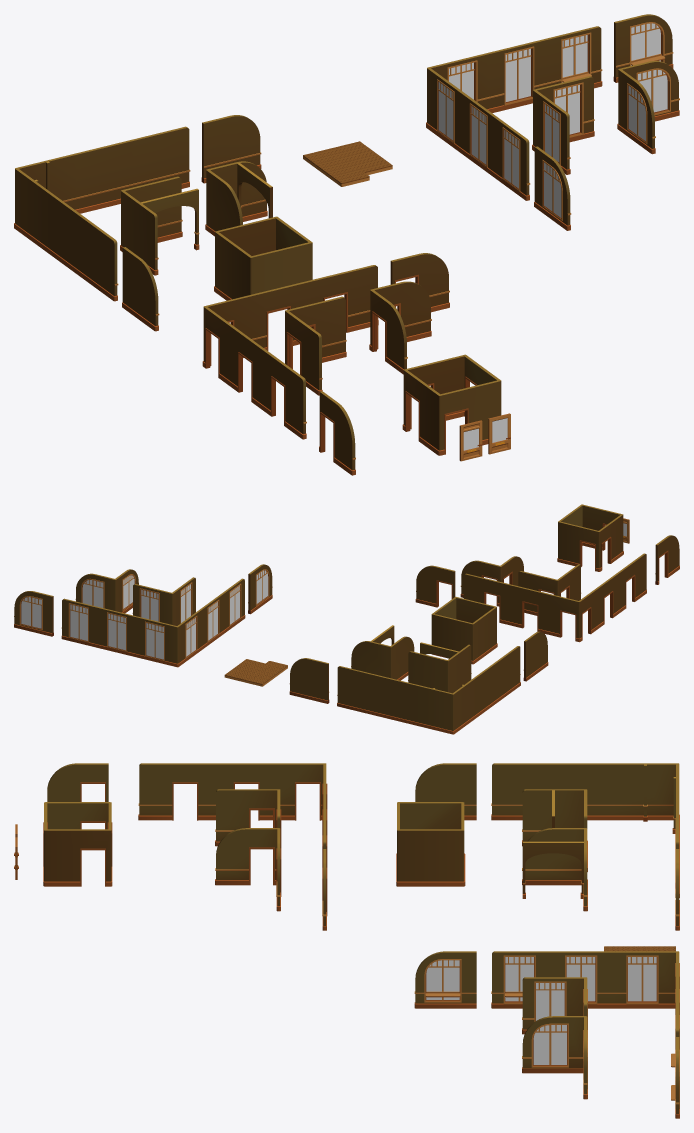
File: Walls_Floors_Style_B.fbx
The picture shows the model from 3 angles, top to bottom: view 1: azimuth 30°, elevation 25°; view 2: azimuth 150°, elevation 25°; view 3: azimuth 270°, elevation 25°; orthographic projection. The views are drawn at different scales.
Visible parts, largest first — view 1: Wall_B_Dark_Mid, Wall_B_Window_Dark_Mid, Wall_B_Dark_Mid_End_X, Wall_B_Dark_Mid_End_XL, Wall_B_Window_Dark_Mid_End_X, Wall_B_Window_Dark_Mid_End_XL, Wall_B_Enclosed_Corner_S, Wall_Door_B_Enclosed_Corner_S, Wall_B_Window_Light_Mid_End_X, Wall_B_Light_Mid_End_X, Wall_Door_B_Dark_Mid_End_X, Wall_B_Window_Light_Corner_End_XL (+35 smaller); view 2: Wall_B_Dark_Corner_Mid, Wall_B_Window_Dark_Corner_Mid, Wall_B_Dark_Mid, Wall_B_Dark_Mid_End_X, Wall_B_Window_Dark_Mid, Wall_B_Window_Dark_Mid_End_X, Wall_B_Window_Dark_Mid_End_XL, Wall_B_Dark_Mid_End_XL, Wall_Door_B_Enclosed_Corner_N, Wall_Door_B_Dark_Corner_Mid, Wall_B_Enclosed_Corner_N, Wall_B_Dark_Corner_End_X (+31 smaller); view 3: Wall_B_Enclosed_Corner_E, Wall_B_Window_Light_Corner_Mid, Wall_B_Window_Light_Corner_End_XL, Wall_B_Light_Corner_Mid, Wall_B_Window_Light_Mid_End_XL, Wall_Door_B_Enclosed_Corner_E, Wall_Door_B_Light_Mid_End_X, Wall_B_Light_Mid_End_X, Wall_B_Window_Light_Corner_End_X, Wall_Door_B_Light_Corner_End_XL, Wall_B_Window_Light_Mid_End_X, Wall_B_Light_Mid (+11 smaller).
Boxes of the visible parts, x1,y1,x2,y2 form: Wall_B_Dark_Mid: [74, 140, 132, 213]; Wall_B_Window_Dark_Mid: [486, 39, 544, 112]; Wall_B_Dark_Mid_End_X: [131, 126, 190, 188]; Wall_B_Dark_Mid_End_XL: [201, 115, 261, 183]; Wall_B_Window_Dark_Mid_End_X: [543, 26, 602, 88]; Wall_B_Window_Dark_Mid_End_XL: [613, 14, 673, 82]; Wall_B_Enclosed_Corner_S: [250, 242, 312, 313]; Wall_Door_B_Enclosed_Corner_S: [439, 380, 501, 455]; Wall_B_Window_Light_Mid_End_X: [493, 116, 530, 200]; Wall_B_Light_Mid_End_X: [81, 217, 118, 301]; Wall_Door_B_Dark_Mid_End_X: [320, 265, 378, 332]; Wall_B_Window_Light_Corner_End_XL: [617, 69, 655, 154]; Wall_B_Dark_Corner_Mid: [413, 684, 453, 734]; Wall_B_Window_Dark_Corner_Mid: [137, 617, 177, 667]; Wall_B_Dark_Mid: [375, 675, 414, 724]; Wall_B_Dark_Mid_End_X: [337, 666, 376, 715]; Wall_B_Window_Dark_Mid: [99, 607, 138, 657]; Wall_B_Window_Dark_Mid_End_X: [61, 598, 100, 648]; Wall_B_Window_Dark_Mid_End_XL: [14, 591, 53, 636]; Wall_B_Dark_Mid_End_XL: [289, 658, 329, 703]; Wall_Door_B_Enclosed_Corner_N: [557, 521, 599, 571]; Wall_Door_B_Dark_Corner_Mid: [539, 592, 579, 642]; Wall_B_Enclosed_Corner_N: [431, 614, 473, 664]; Wall_B_Dark_Corner_End_X: [408, 651, 448, 691]; Wall_B_Enclosed_Corner_E: [396, 829, 464, 886]; Wall_B_Window_Light_Corner_Mid: [614, 951, 678, 1008]; Wall_B_Window_Light_Corner_End_XL: [522, 1016, 586, 1073]; Wall_B_Light_Corner_Mid: [614, 763, 678, 820]; Wall_B_Window_Light_Mid_End_XL: [414, 951, 476, 1008]; Wall_Door_B_Enclosed_Corner_E: [44, 829, 111, 886]; Wall_Door_B_Light_Mid_End_X: [138, 763, 200, 820]; Wall_B_Light_Mid_End_X: [491, 763, 553, 820]; Wall_B_Window_Light_Corner_End_X: [522, 977, 586, 1034]; Wall_Door_B_Light_Corner_End_XL: [215, 828, 279, 885]; Wall_B_Window_Light_Mid_End_X: [491, 951, 553, 1008]; Wall_B_Light_Mid: [553, 763, 614, 820].
Size of the model in its own units: 4630 by 400 by 4341.
